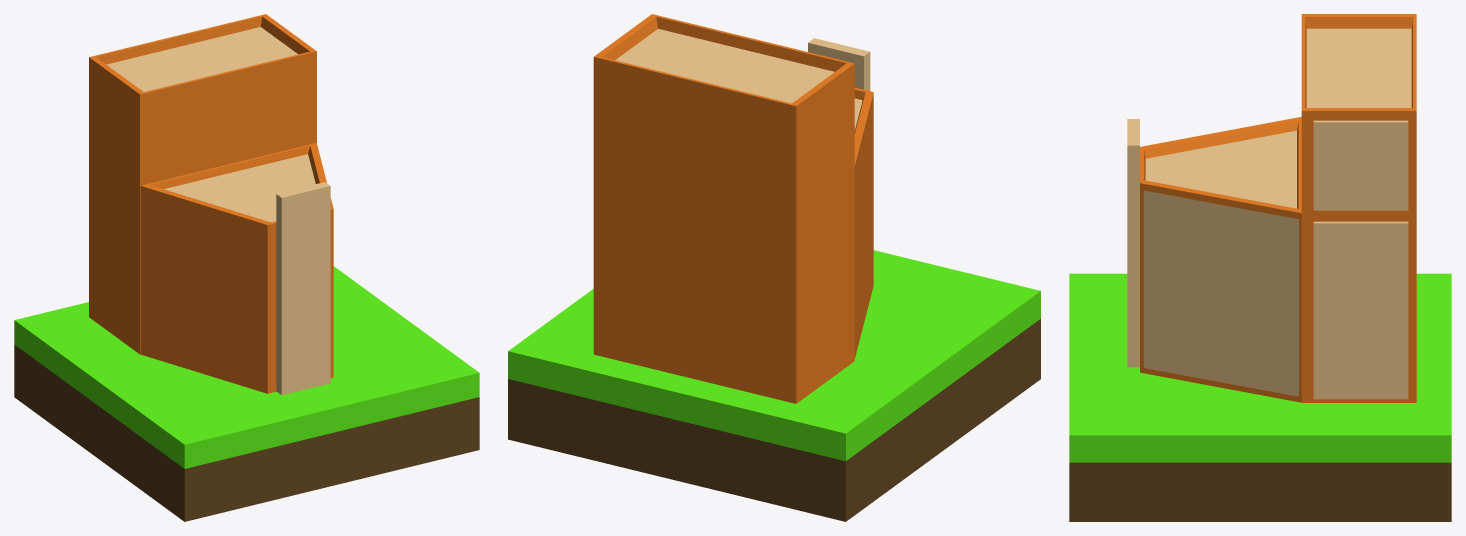
The model's file is Bricks1024.glb.
3 views of the same model, side by side, from view 1: azimuth 30°, elevation 25°; view 2: azimuth 150°, elevation 25°; view 3: azimuth 270°, elevation 25° (orthographic). The views are drawn at different scales.
Parts seen in each view (by area): view 1: Cube.001, Cube; view 2: Cube.001, Cube; view 3: Cube.001, Cube.
Part boxes in pixels (x1,y1,x2,y2): Cube.001: [89, 14, 333, 395]; Cube: [14, 266, 479, 521]; Cube.001: [593, 14, 873, 403]; Cube: [508, 250, 1040, 521]; Cube.001: [1127, 14, 1416, 402]; Cube: [1069, 273, 1451, 521].
Bounding box in the file's own units: 2 × 2.18 × 2.
